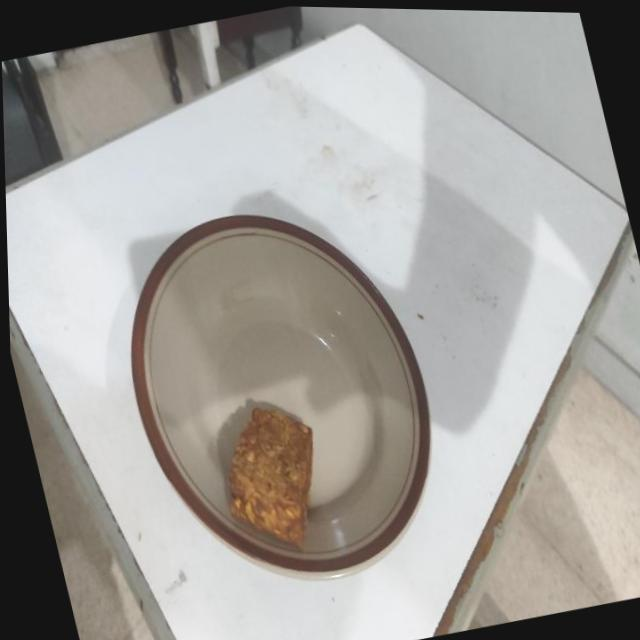tempe_goreng: (228, 408, 312, 548)
